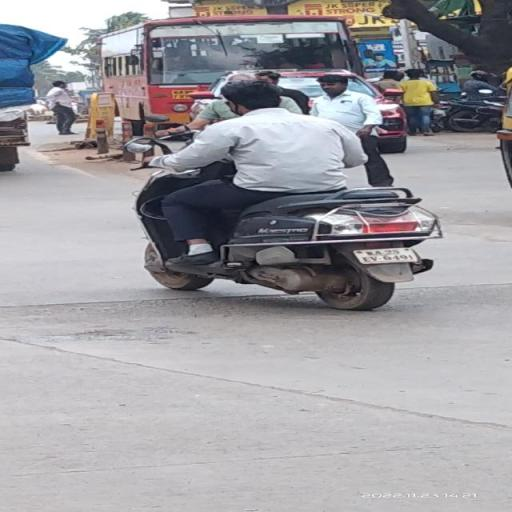bike: (116, 76, 452, 312)
numberplate: (351, 241, 418, 266)
withouthelmet: (221, 78, 279, 110)
